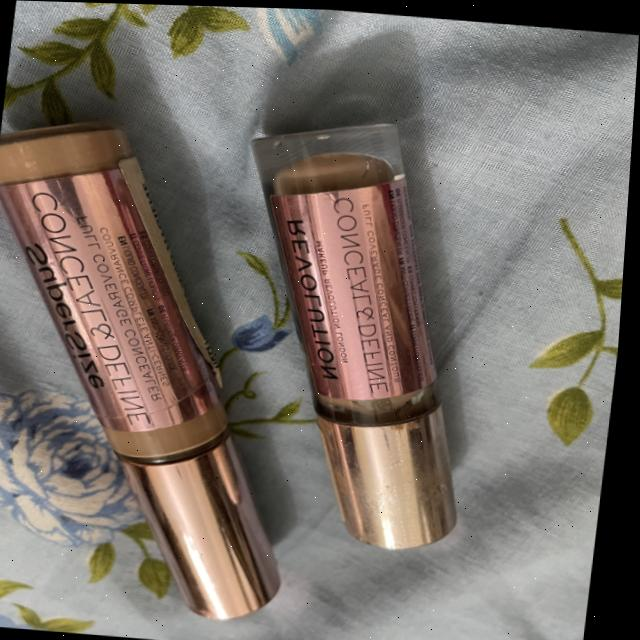concealer: (0, 74, 598, 640), (0, 104, 346, 633), (204, 81, 546, 573)
